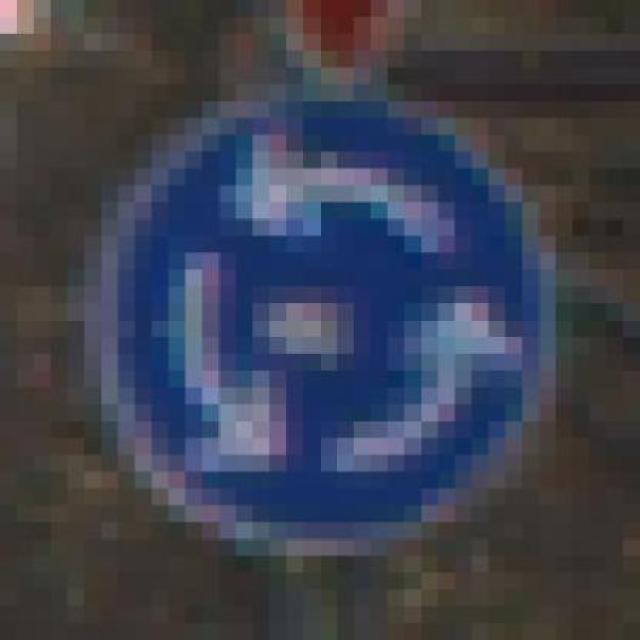Round-About: (84, 67, 573, 573)
